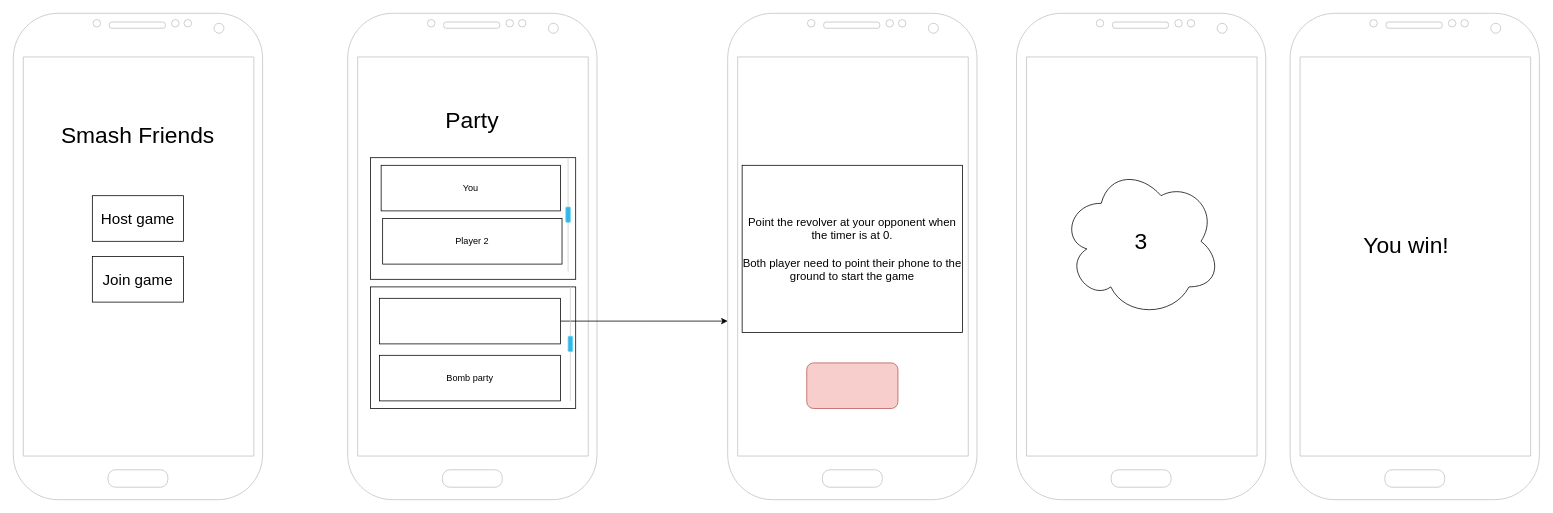
This 1553x513 diagram has some shape labels left out. The box of each missing label's shape, as (x1, y1, x2, y2) in pixels:
Not pointing to the ground: (806, 362, 898, 408)
Revolver duel: (379, 298, 560, 344)
